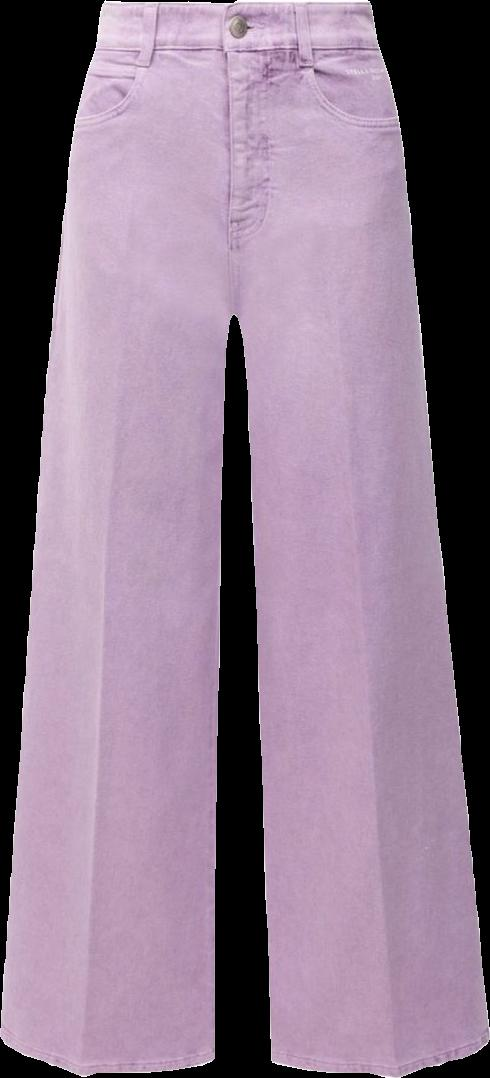Hemline: (269, 1029, 489, 1075), (0, 1031, 220, 1076)
Pantleg: (224, 0, 488, 1074), (1, 3, 230, 1074)
Waistline: (89, 38, 381, 60), (100, 0, 374, 15)
